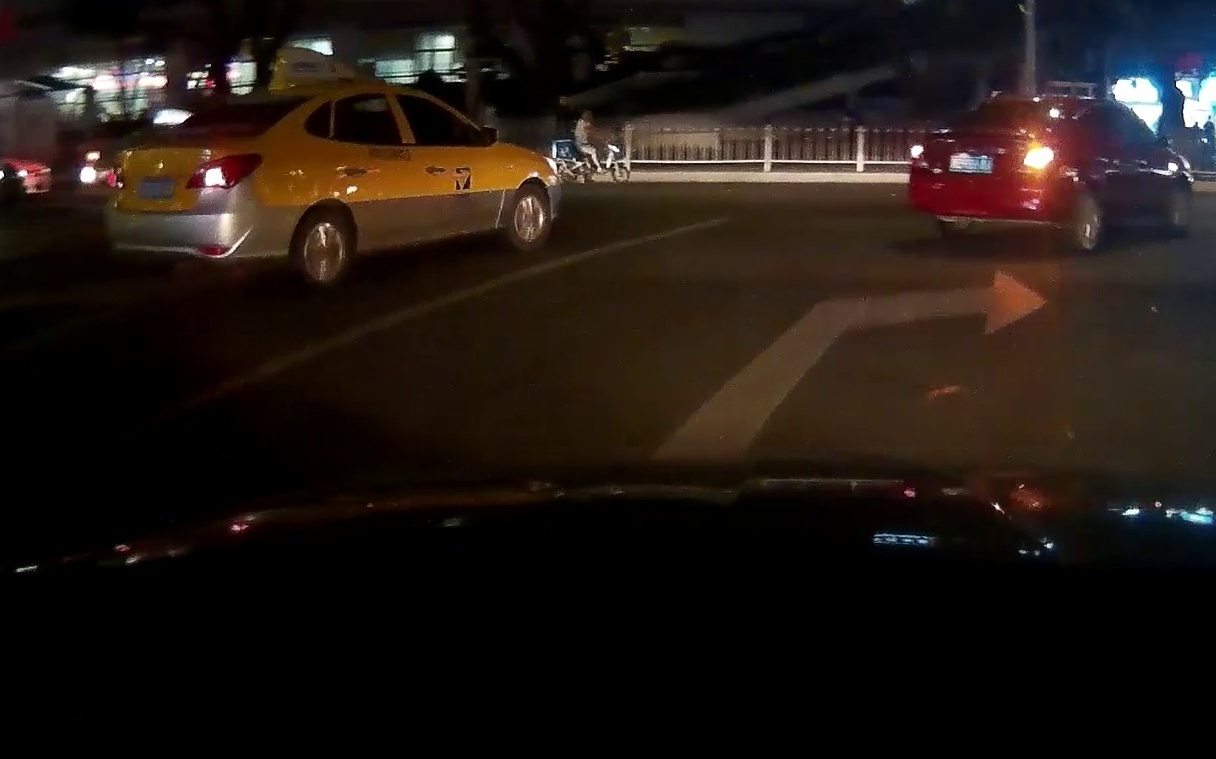L_light: (106, 162, 123, 190), (910, 144, 930, 167)
R_light: (185, 151, 265, 189), (1018, 147, 1054, 172)
T_light: (245, 99, 272, 109), (1020, 101, 1041, 109)
night-right: (103, 82, 315, 290), (909, 95, 1087, 251)
